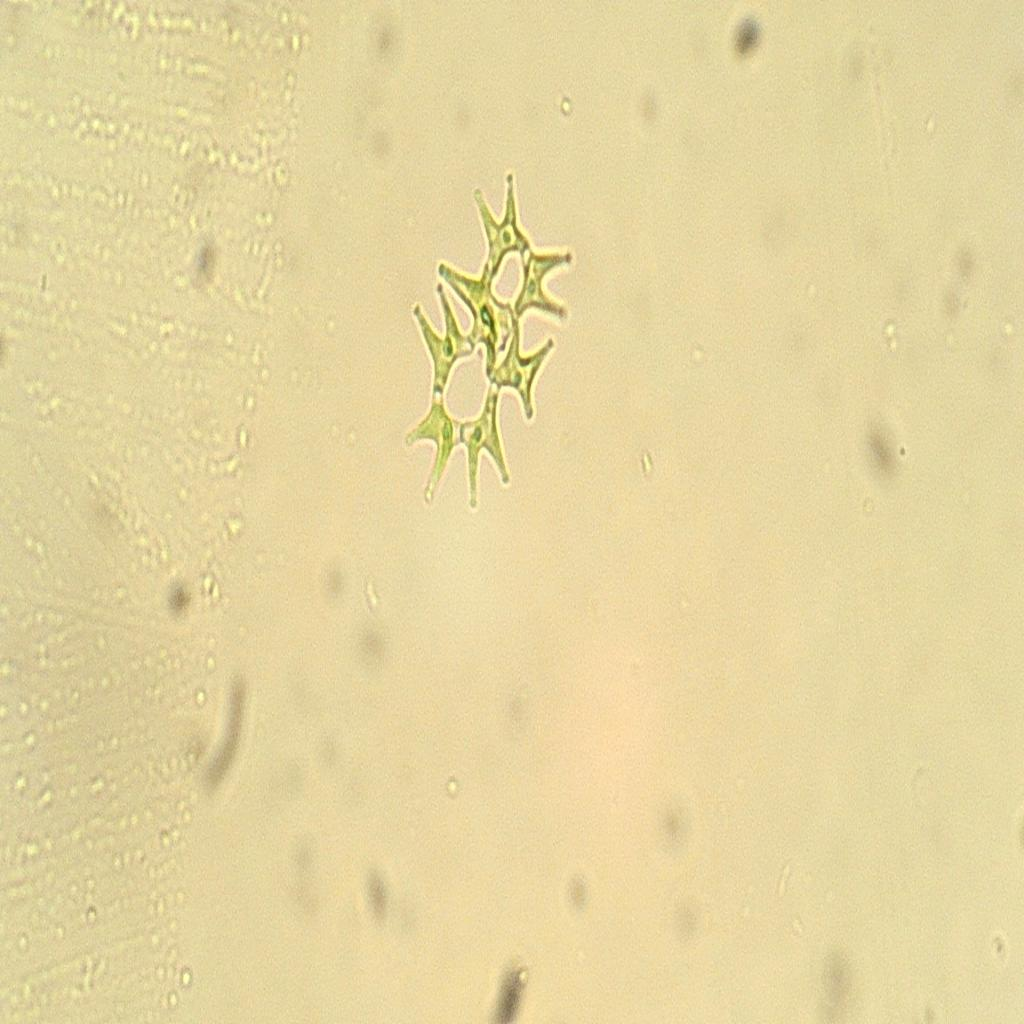Pediastrum_1TH: (388, 146, 589, 526)
